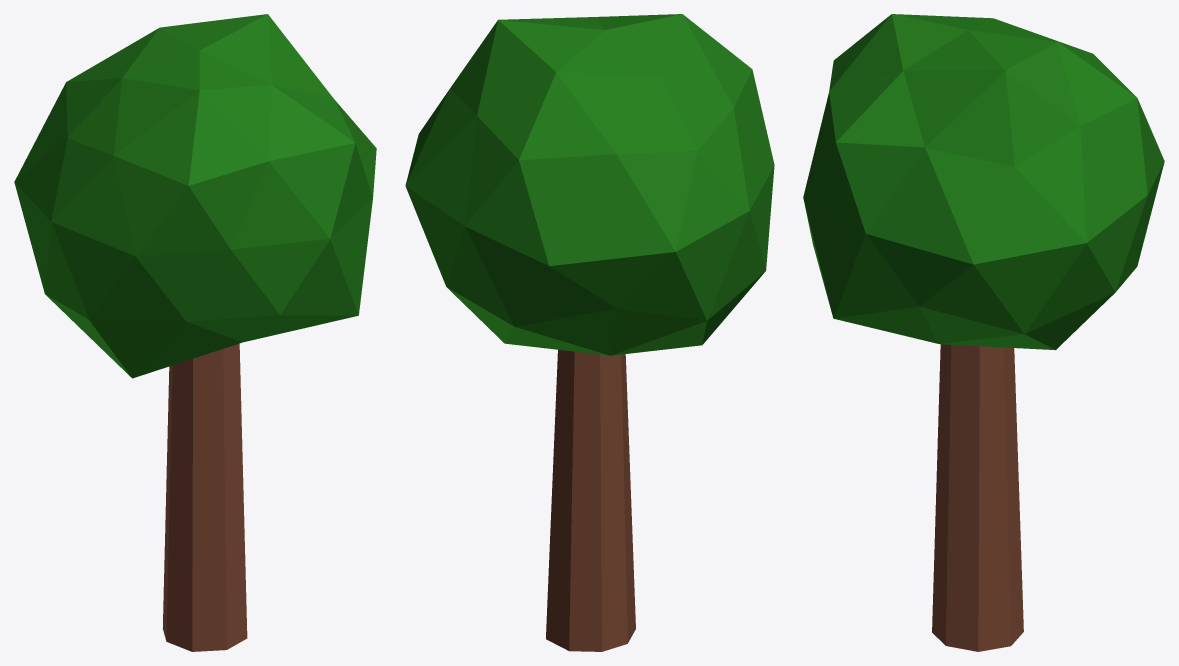
Rendered from Tree_04_summer_vc.fbx.
The picture shows the model from 3 angles, left to right: view 1: azimuth 30°, elevation 25°; view 2: azimuth 150°, elevation 25°; view 3: azimuth 270°, elevation 25°; orthographic projection. The views are drawn at different scales.
Visible parts, largest first — view 1: Tree_04_summer_vc; view 2: Tree_04_summer_vc; view 3: Tree_04_summer_vc.
Part boxes in pixels (<box>): Tree_04_summer_vc: <box>14,14,376,651</box>; Tree_04_summer_vc: <box>405,14,774,651</box>; Tree_04_summer_vc: <box>803,14,1164,651</box>.
Bounding box in the file's own units: 111 × 193 × 105.
